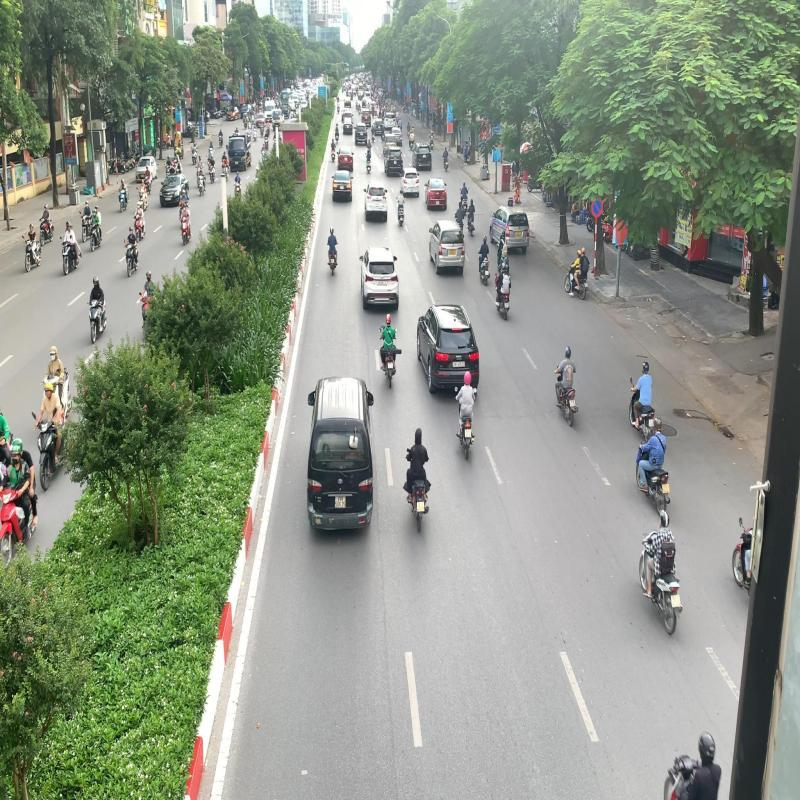helmet: (660, 508, 670, 528), (653, 416, 663, 430), (464, 371, 472, 385), (465, 428, 471, 438)
licenseplate: (670, 594, 682, 608), (662, 482, 670, 493)
motorcyclist: (638, 508, 684, 636), (636, 416, 672, 516), (454, 371, 477, 460)
